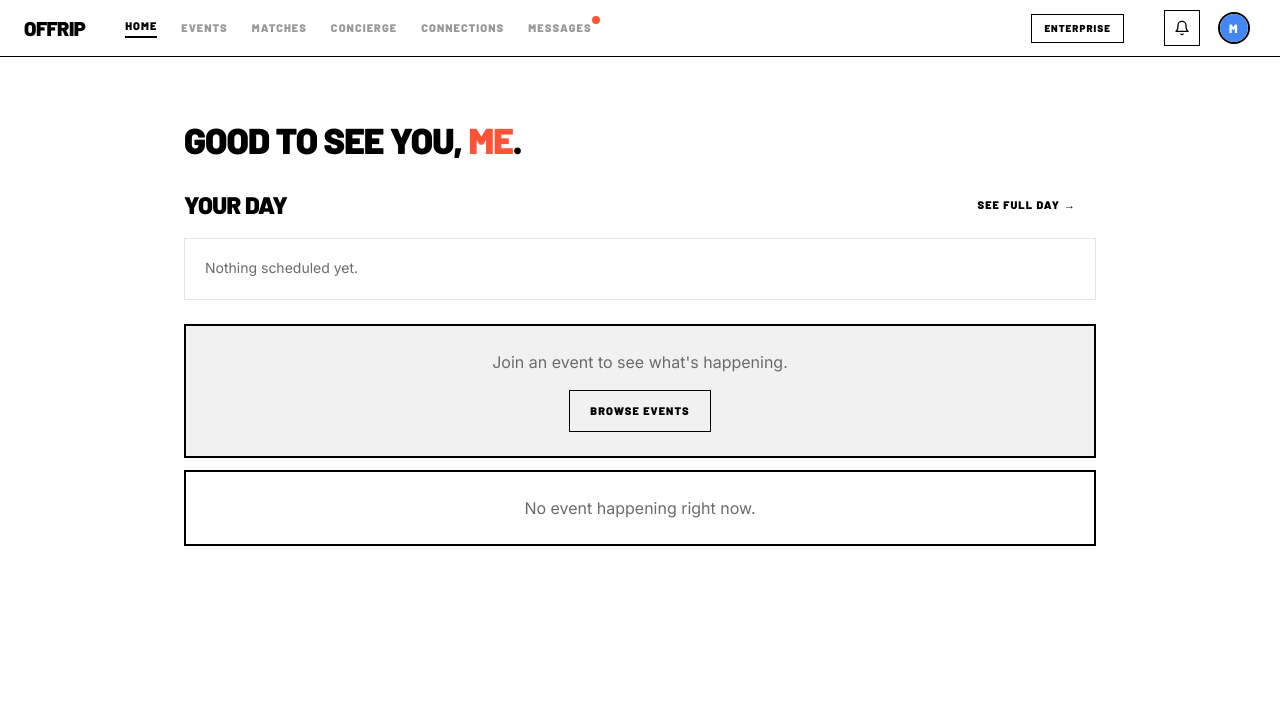
Connections tab — archive / unarchive › shows an active connection under the Active filter and not under Archived
Click the button "Connections": (463, 28) [421,20,504,36]
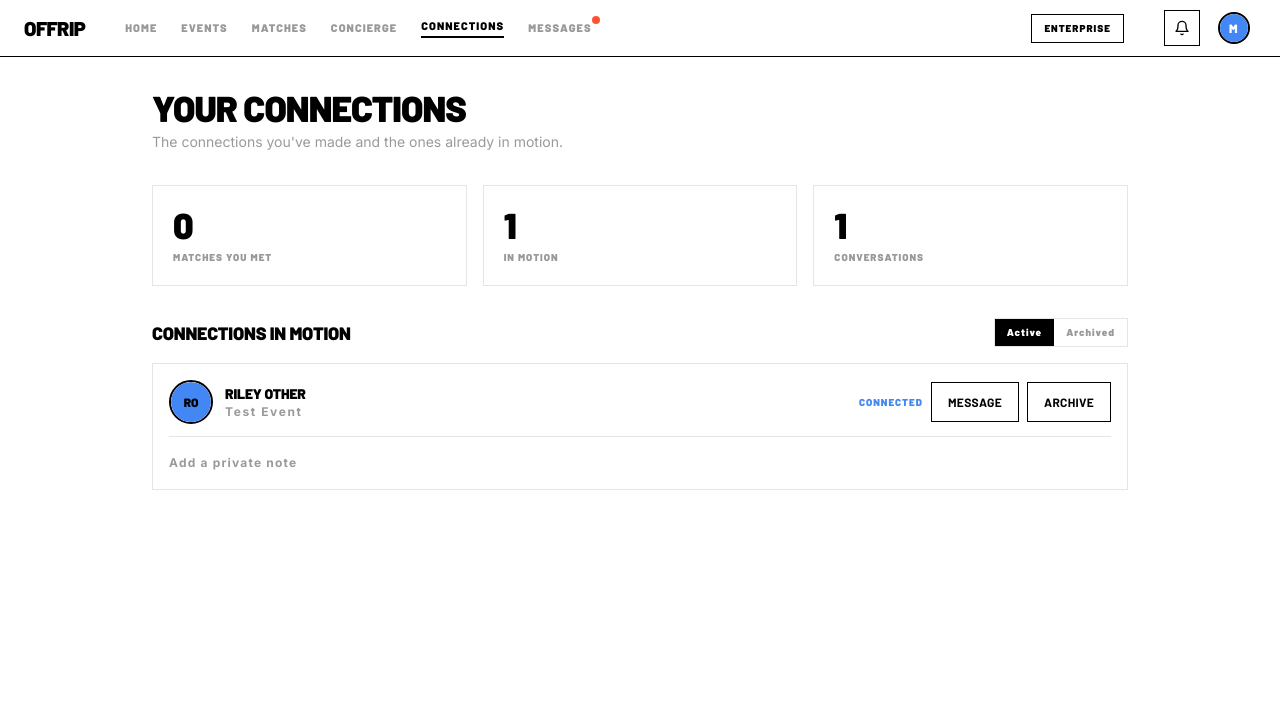
Now the text "Riley Other" is shown, box [225,385,306,402]
Now the button "Archive" is shown, box [1027,382,1111,422]
Click the button "archived": (1091, 332) [1054,319,1127,346]
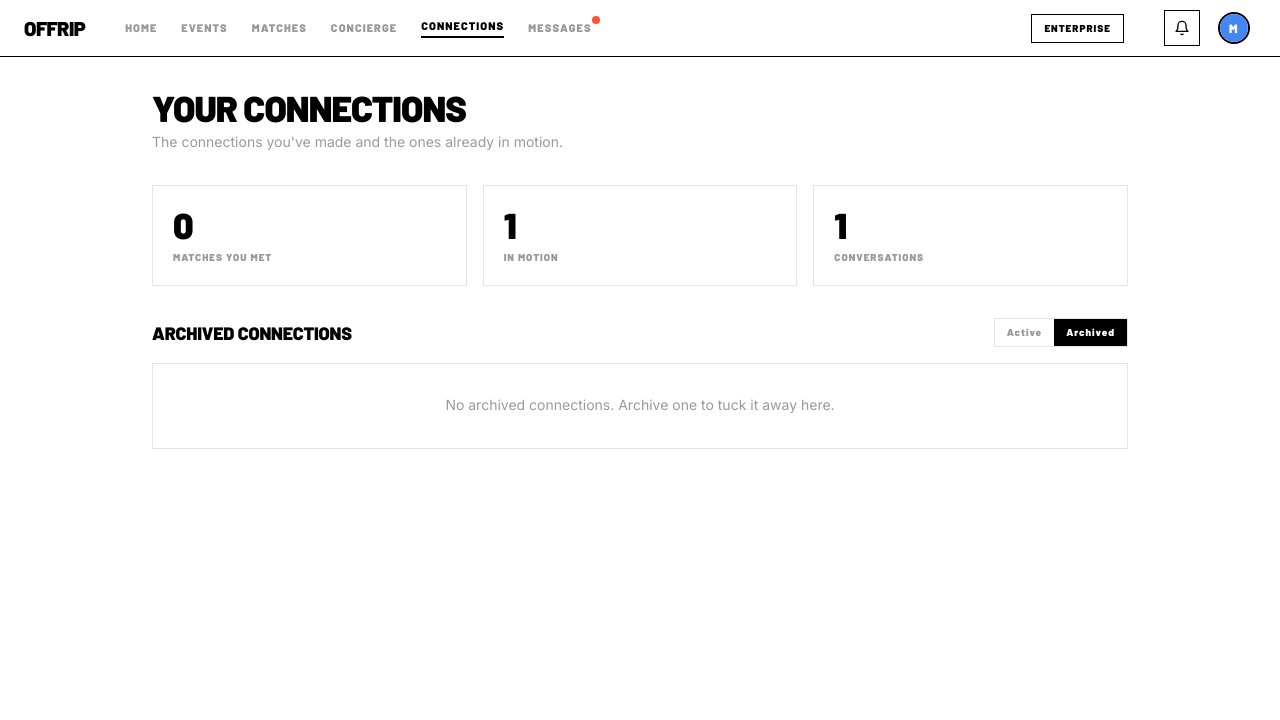
Now the button "Riley Other" is gone
Now the text "No archived connections. Archive one to tuck it away here." is shown, box [152,363,1128,449]
